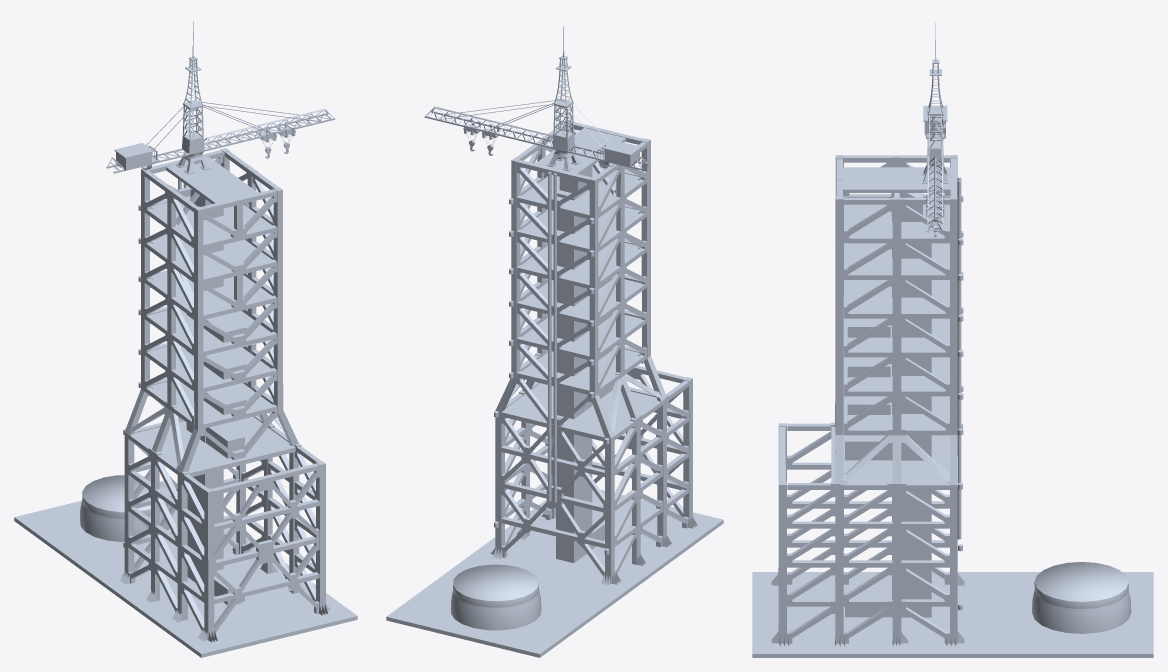
Rendered from FaSheTa-ZhuTi.FBX.
The picture shows the model from 3 angles, left to right: view 1: azimuth 30°, elevation 25°; view 2: azimuth 150°, elevation 25°; view 3: azimuth 270°, elevation 25°; orthographic projection. The views are drawn at different scales.
Parts seen in each view (by area): view 1: FaSheTa-ZhuTi; view 2: FaSheTa-ZhuTi; view 3: FaSheTa-ZhuTi.
Part boxes in pixels (x1,y1,x2,y2): FaSheTa-ZhuTi: [14, 21, 357, 657]; FaSheTa-ZhuTi: [386, 25, 723, 657]; FaSheTa-ZhuTi: [752, 23, 1153, 657].
Size of the model in its own units: 200 by 486 by 293.
